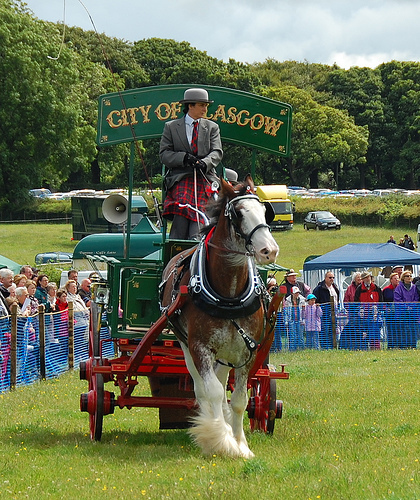horse: (165, 176, 283, 461)
